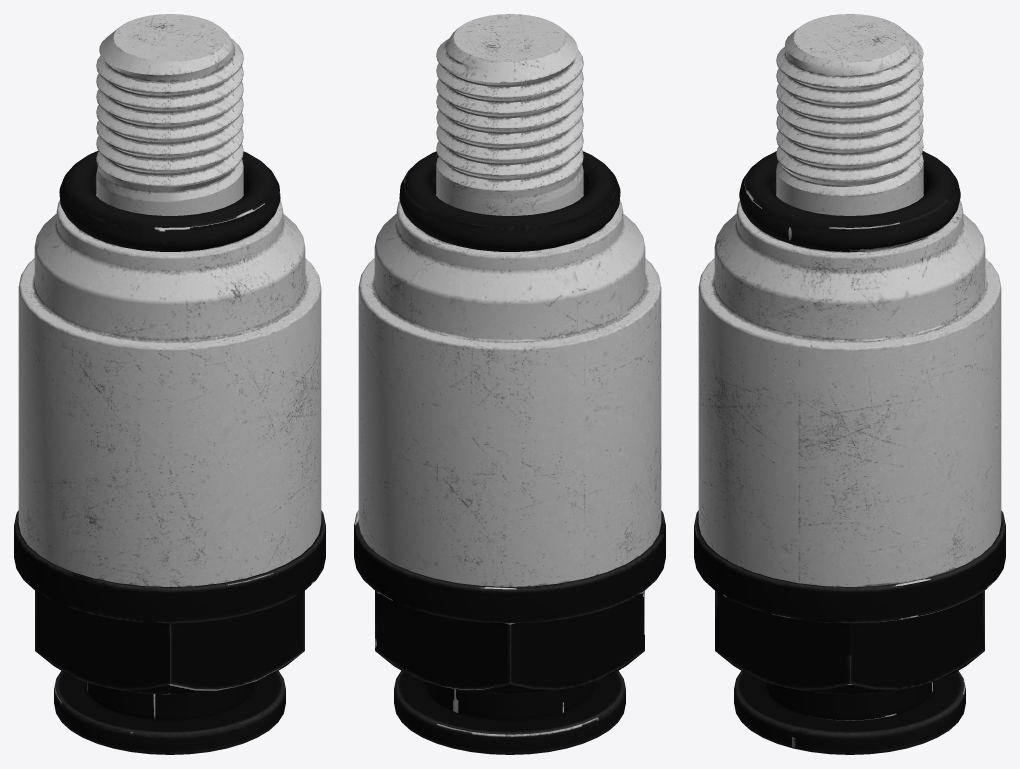
File: oilPressureReliefValve.glb
3 renders of one model, left to right at view 1: azimuth 30°, elevation 25°; view 2: azimuth 150°, elevation 25°; view 3: azimuth 270°, elevation 25°, orthographic.
Visible parts, largest first — view 1: Bolt.001; view 2: Bolt.001; view 3: Bolt.001.
Part boxes in pixels (x1=…): Bolt.001: x1=14, y1=14, x2=325, y2=754; Bolt.001: x1=354, y1=14, x2=665, y2=754; Bolt.001: x1=694, y1=14, x2=1005, y2=754.
Size of the model in its own units: 6.35 by 15.03 by 6.35.
Materials: 1 (1 with a texture image).
